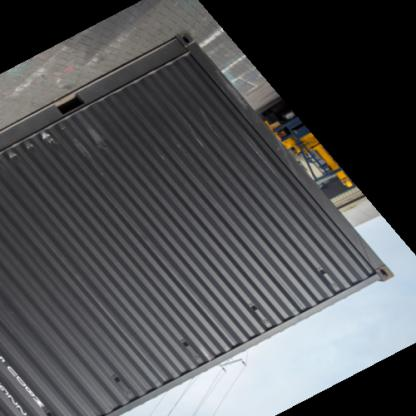Damage: (3, 137, 74, 174), (224, 82, 260, 130)
